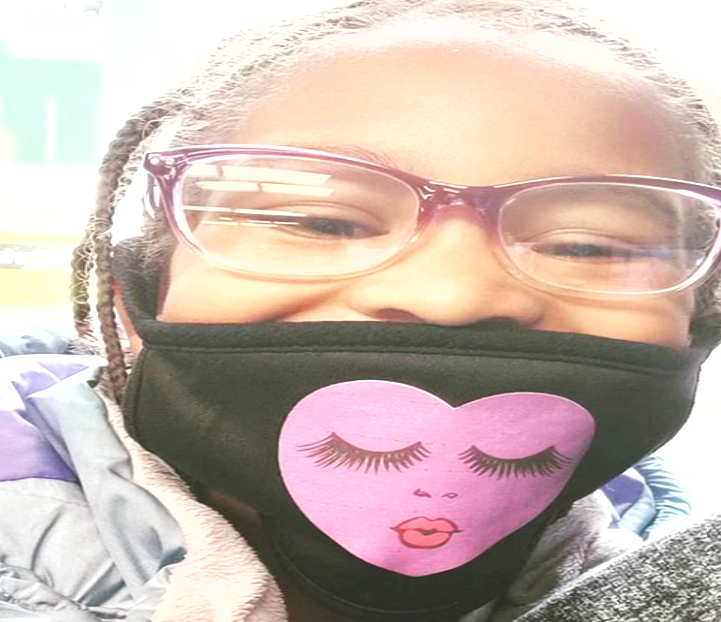mask_weared_incorrect: (76, 2, 721, 620)
